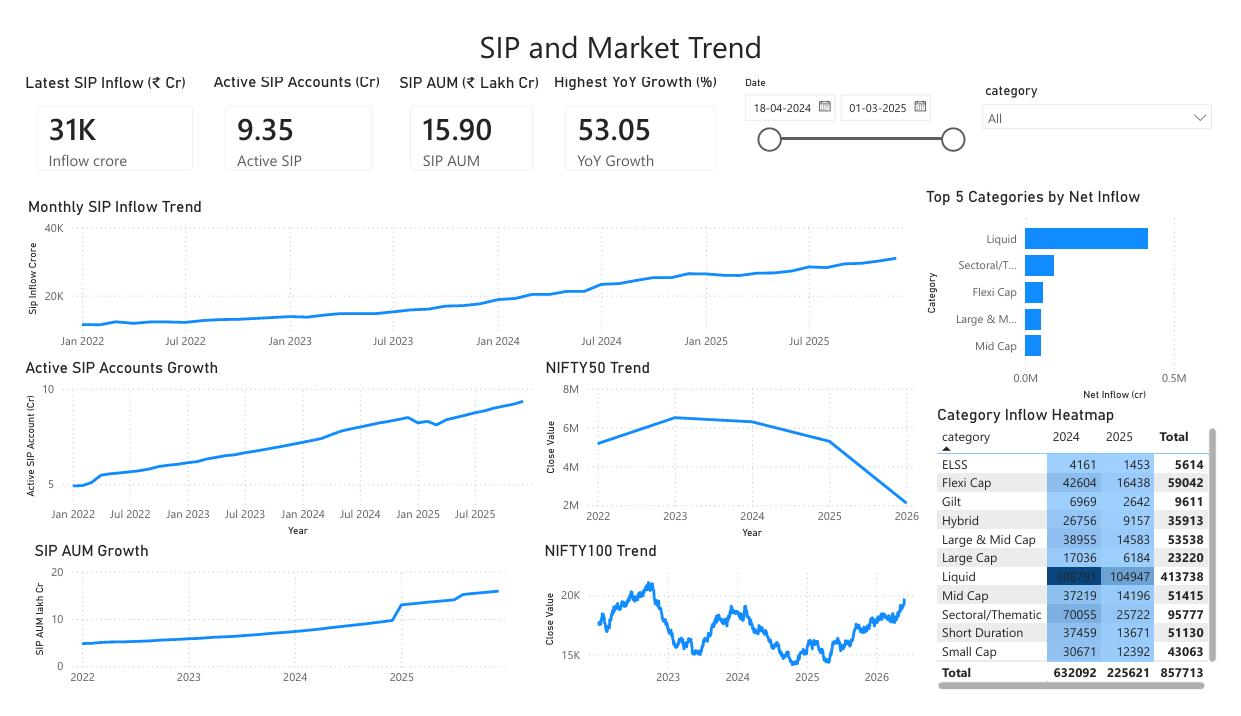

The page's visual inventory and layout, read from the dashboard file:
{"tool":"powerbi","page":{"name":"SIP and Market Trend","canvas":[1280,720],"ordinal":3},"visuals":[{"type":"cardVisual","title":"Latest SIP Inflow (₹ Cr)","fields":{"Data":["Max(04_monthly_sip_inflows.sip_inflow_crore)"]},"box":[0,55.2,201.5,122.4],"z":0},{"type":"cardVisual","title":"Active SIP Accounts (Cr)","fields":{"Data":["Max(04_monthly_sip_inflows.active_sip_accounts_crore)"]},"box":[201.5,55.2,192.5,122.4],"z":1000},{"type":"cardVisual","title":"SIP AUM (₹ Lakh Cr)","fields":{"Data":["Max(04_monthly_sip_inflows.sip_aum_lakh_crore)"]},"box":[398.5,55.2,165.7,122.4],"z":2000},{"type":"cardVisual","title":"Highest YoY Growth (%)","fields":{"Data":["Max(04_monthly_sip_inflows.yoy_growth_pct)"]},"box":[564.2,55.2,195.5,122.4],"z":3000},{"type":"lineChart","title":"Monthly SIP Inflow Trend","fields":{"Y":["Sum(04_monthly_sip_inflows.sip_inflow_crore)"],"Category":["04_monthly_sip_inflows.month.Variation.Date Hierarchy.Year","04_monthly_sip_inflows.month.Variation.Date Hierarchy.Month","04_monthly_sip_inflows.month.Variation.Date Hierarchy.Day"]},"box":[3,188.1,958.2,171.6],"z":4000},{"type":"lineChart","title":"Active SIP Accounts Growth","fields":{"Y":["Sum(04_monthly_sip_inflows.active_sip_accounts_crore)"],"Category":["04_monthly_sip_inflows.month.Variation.Date Hierarchy.Year","04_monthly_sip_inflows.month.Variation.Date Hierarchy.Month","04_monthly_sip_inflows.month.Variation.Date Hierarchy.Day"]},"box":[0,359.7,553.7,195.5],"z":5000},{"type":"lineChart","title":"SIP AUM Growth","fields":{"Y":["Sum(04_monthly_sip_inflows.sip_aum_lakh_crore)"],"Category":["04_monthly_sip_inflows.month.Variation.Date Hierarchy.Year","04_monthly_sip_inflows.month.Variation.Date Hierarchy.Month","04_monthly_sip_inflows.month.Variation.Date Hierarchy.Day"]},"box":[10.4,555.2,517.9,164.2],"z":6000},{"type":"pivotTable","title":"Category  Inflow Heatmap","fields":{"Rows":["05_category_inflows.category"],"Columns":["05_category_inflows.month.Variation.Date Hierarchy.Year","05_category_inflows.month.Variation.Date Hierarchy.Quarter","05_category_inflows.month.Variation.Date Hierarchy.Month","05_category_inflows.month.Variation.Date Hierarchy.Day"],"Values":["Sum(05_category_inflows.net_inflow_crore)"]},"box":[973.1,410.4,307.5,309],"z":7000},{"type":"clusteredBarChart","title":"Top 5 Categories by Net Inflow","fields":{"Category":["05_category_inflows.category"],"Y":["Sum(05_category_inflows.net_inflow_crore)"]},"box":[961.2,177.6,319.4,232.8],"z":8000},{"type":"lineChart","title":"NIFTY50 Trend","fields":{"Category":["10_benchmark_indices.date.Variation.Date Hierarchy.Year","10_benchmark_indices.date.Variation.Date Hierarchy.Month","10_benchmark_indices.date.Variation.Date Hierarchy.Day"],"Y":["Sum(10_benchmark_indices.close_value)"]},"box":[555.2,359.7,407.5,197],"z":9000},{"type":"lineChart","title":"NIFTY100 Trend","fields":{"Y":["Sum(10_benchmark_indices.close_value)"],"Category":["10_benchmark_indices.date.Variation.Date Hierarchy.Year","10_benchmark_indices.date.Variation.Date Hierarchy.Month","10_benchmark_indices.date.Variation.Date Hierarchy.Day"]},"box":[553.7,555.2,407.5,164.2],"z":10000},{"type":"slicer","title":"Date","fields":{"Values":["05_category_inflows.month"]},"box":[759.7,55.2,256.7,122.4],"z":11000},{"type":"slicer","fields":{"Values":["05_category_inflows.category"]},"box":[1016.4,61.2,264.2,110.4],"z":12000},{"type":"textbox","box":[0,0,1280.6,59.7],"z":13000}]}

Visuals, with their boxes in screenshot pixels (x1, y1, x2, y2), scaled from the page's 1280x720 canvas onto the 1241x716 screenshot:
"Latest SIP Inflow (₹ Cr)" cardVisual: [x1=0, y1=55, x2=195, y2=177]
"Active SIP Accounts (Cr)" cardVisual: [x1=195, y1=55, x2=382, y2=177]
"SIP AUM (₹ Lakh Cr)" cardVisual: [x1=386, y1=55, x2=547, y2=177]
"Highest YoY Growth (%)" cardVisual: [x1=547, y1=55, x2=737, y2=177]
"Monthly SIP Inflow Trend" lineChart: [x1=3, y1=187, x2=932, y2=358]
"Active SIP Accounts Growth" lineChart: [x1=0, y1=358, x2=537, y2=552]
"SIP AUM Growth" lineChart: [x1=10, y1=552, x2=512, y2=715]
"Category  Inflow Heatmap" pivotTable: [x1=943, y1=408, x2=1240, y2=715]
"Top 5 Categories by Net Inflow" clusteredBarChart: [x1=932, y1=177, x2=1240, y2=408]
"NIFTY50 Trend" lineChart: [x1=538, y1=358, x2=933, y2=554]
"NIFTY100 Trend" lineChart: [x1=537, y1=552, x2=932, y2=715]
"Date" slicer: [x1=737, y1=55, x2=985, y2=177]
slicer - 05_category_inflows.category: [x1=985, y1=61, x2=1240, y2=171]
textbox: [x1=0, y1=0, x2=1240, y2=59]
